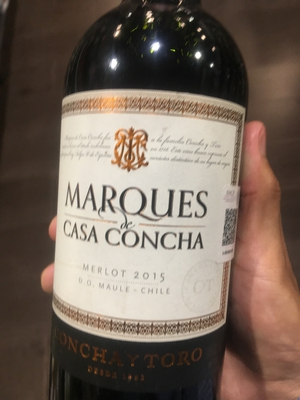marques de casa concha merlot: (50, 16, 254, 400)
